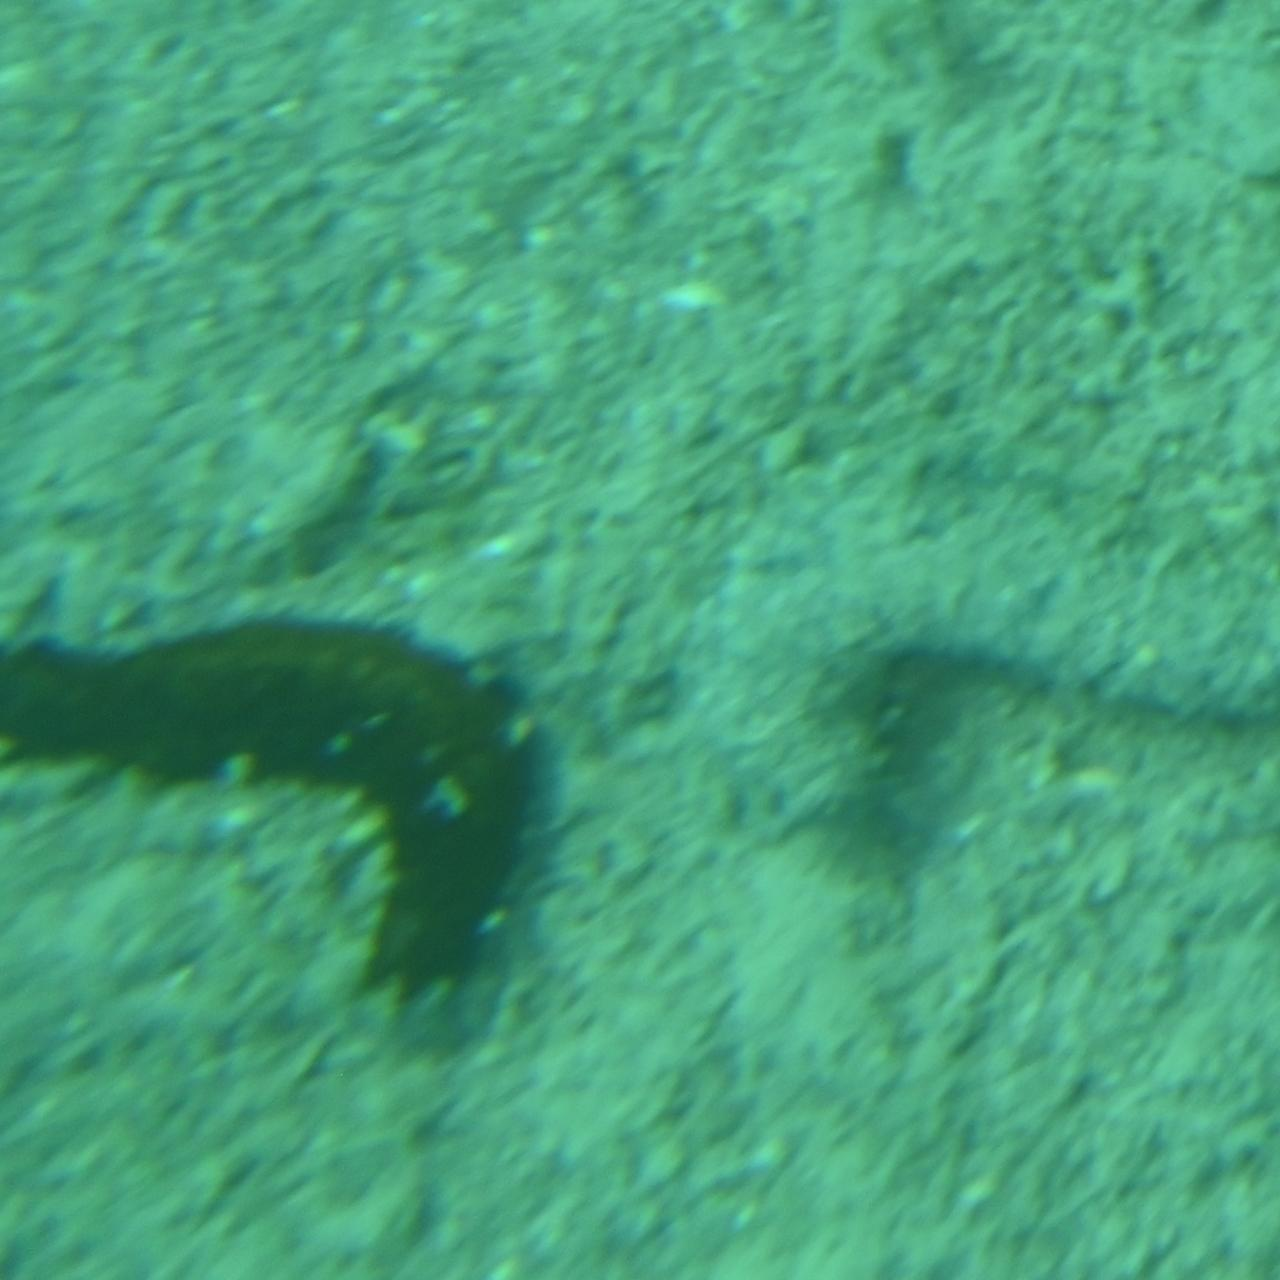Holothuria tubulosa: (683, 465, 1280, 862), (0, 635, 545, 1037)
